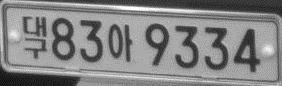3: (204, 26, 229, 70), (79, 19, 103, 62), (175, 25, 199, 68)
4: (233, 28, 260, 72)
8: (51, 17, 76, 60)
9: (144, 22, 169, 65)
대구_V: (21, 15, 48, 59)
아: (107, 23, 133, 63)
